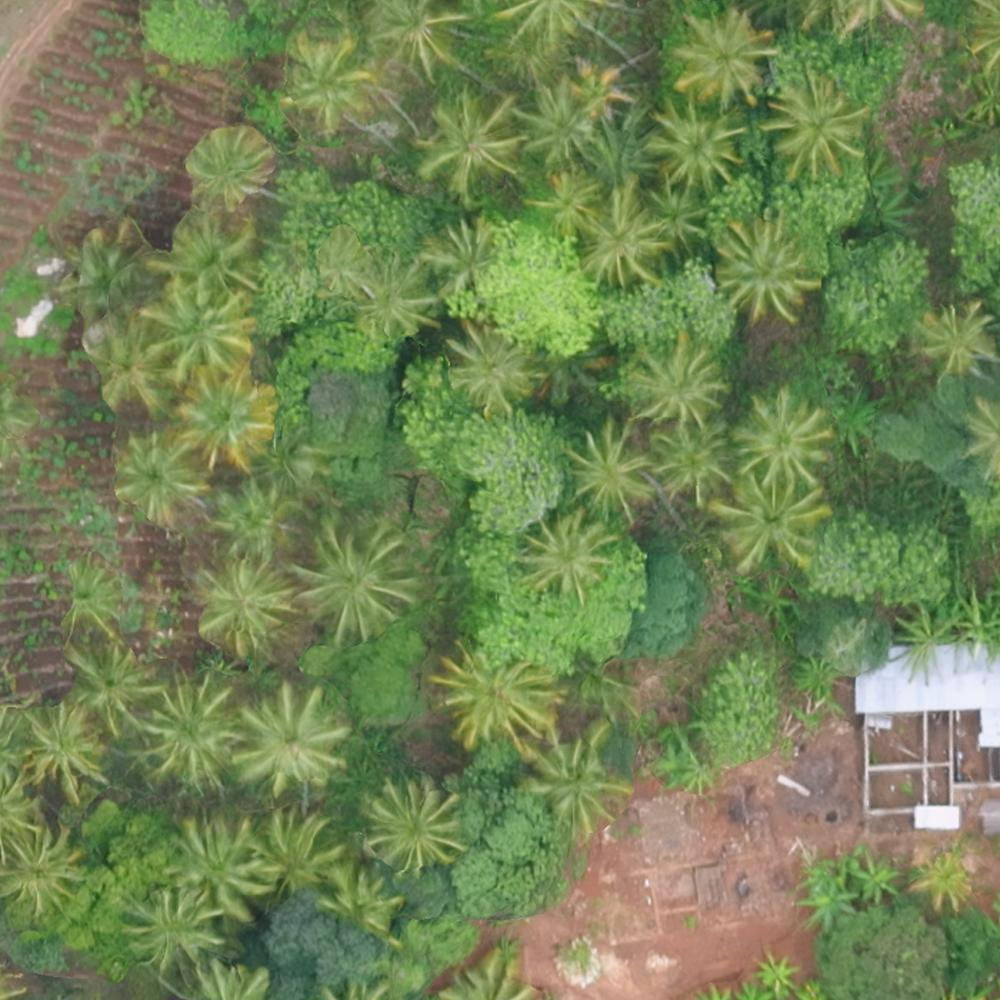Palm: (294, 514, 418, 636), (436, 636, 560, 751), (716, 474, 829, 575), (232, 686, 341, 790), (519, 724, 626, 827), (420, 88, 522, 193), (170, 814, 270, 921), (146, 279, 254, 377), (765, 75, 867, 175), (143, 678, 237, 785), (361, 778, 464, 875), (109, 429, 208, 528), (719, 218, 814, 321), (278, 33, 374, 133), (450, 314, 546, 411), (735, 393, 833, 485), (518, 509, 616, 600), (568, 419, 658, 518), (164, 212, 266, 297), (63, 642, 152, 739), (633, 331, 726, 423), (181, 368, 269, 465), (672, 11, 768, 99), (81, 313, 169, 409), (125, 885, 227, 967), (25, 701, 109, 799), (1, 827, 90, 919), (193, 560, 287, 647), (579, 183, 660, 283), (650, 100, 741, 189), (247, 809, 337, 893), (367, 1, 462, 77), (213, 475, 297, 559), (647, 422, 733, 504), (918, 299, 1000, 377), (518, 82, 596, 163), (425, 214, 500, 296), (530, 167, 604, 242), (190, 127, 264, 198), (644, 177, 711, 251), (566, 59, 631, 114)
